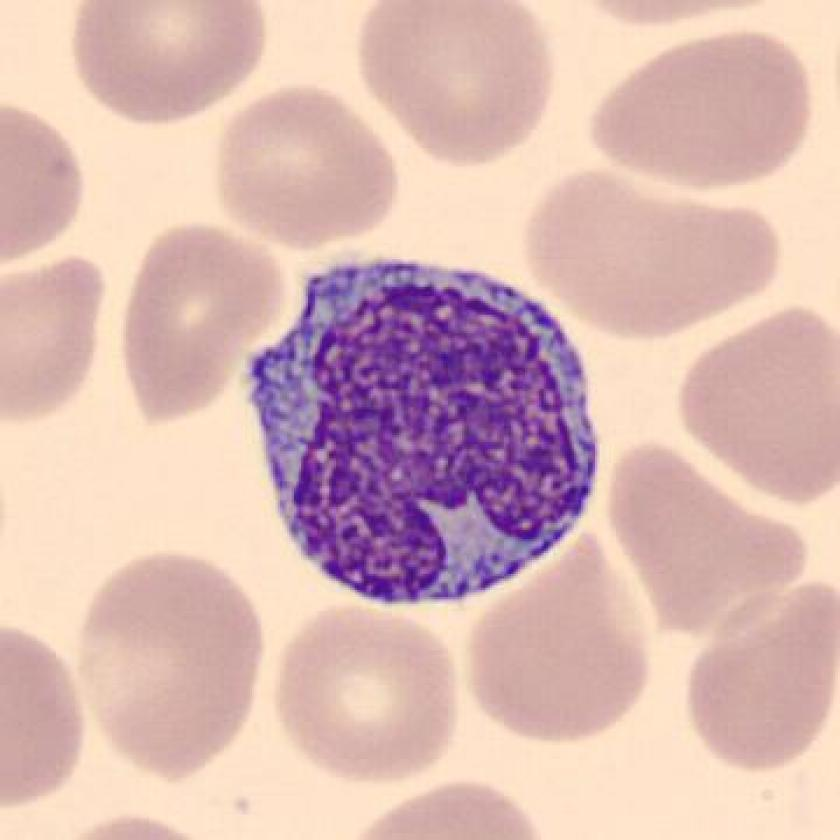monocyte: (235, 253, 627, 628)
